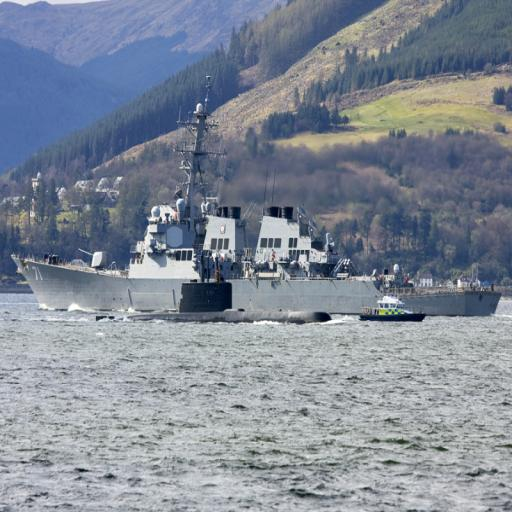submarine: (99, 285, 334, 325)
